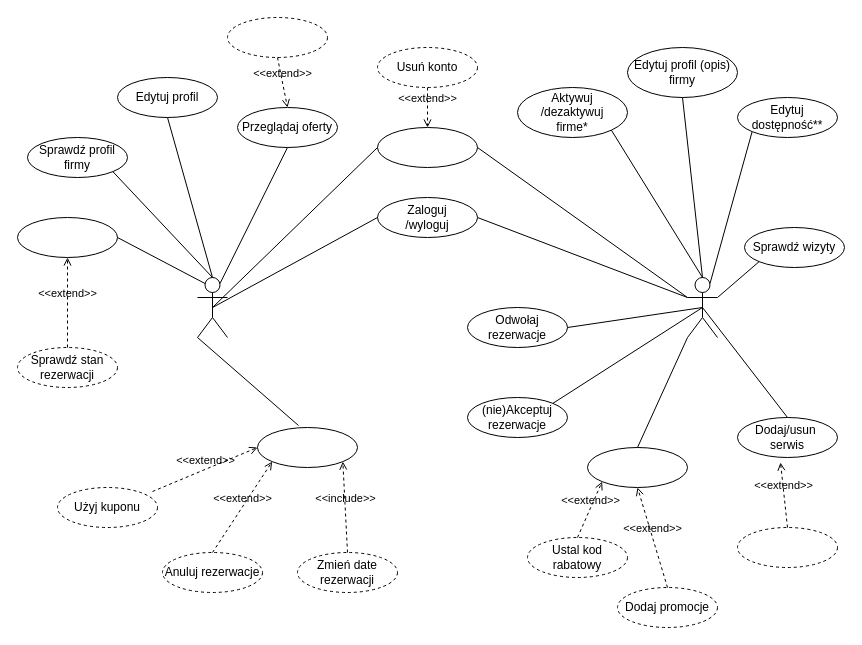
Image size: 862x645. Some labels were removed from this diagram. Here are the shapes that lost their labels. From the top down, the box of each, then its label:
(226, 16, 328, 58): Filtrowanie
(376, 126, 478, 168): Załóż konto
(16, 216, 118, 258): Sprawdź swoje wizyty
(196, 276, 228, 338): Klient
(686, 276, 718, 338): Przedsiebiorca
(256, 426, 358, 468): Zarezerwuj
(586, 446, 688, 488): Ustal ceny
(736, 526, 838, 568): Edytuj serwis
